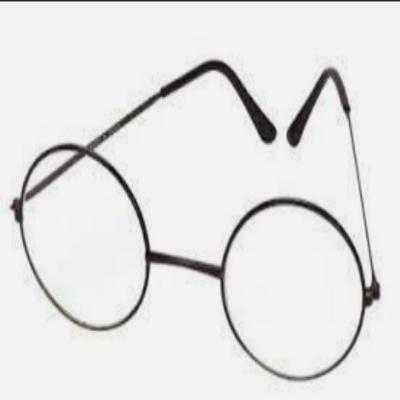glasses: (9, 56, 383, 383)
